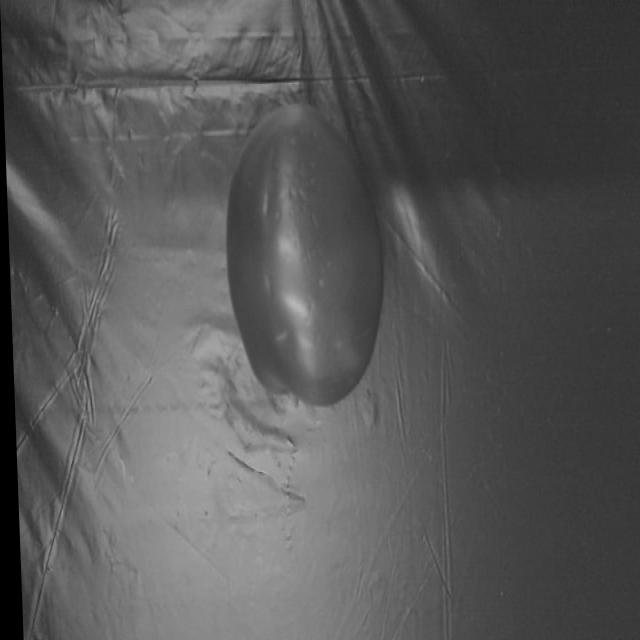kirmizi: (224, 94, 385, 414)
